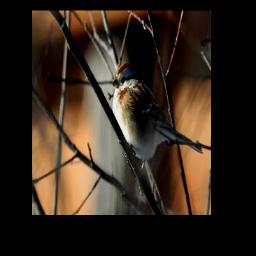Sparrow: (111, 61, 205, 169)
